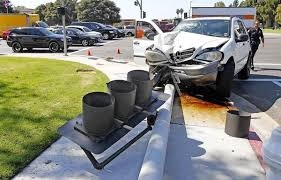Broken-glass: (174, 19, 212, 33)
Smashed: (147, 30, 220, 83)
